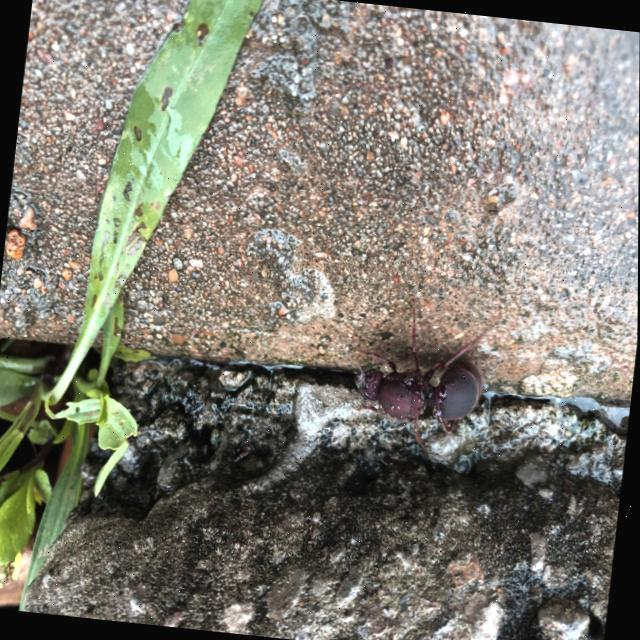Alive-Female-Dealate: (330, 289, 504, 466)
